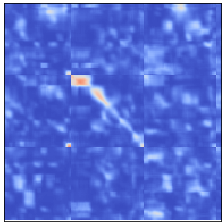action_path: (69, 75, 144, 149)
